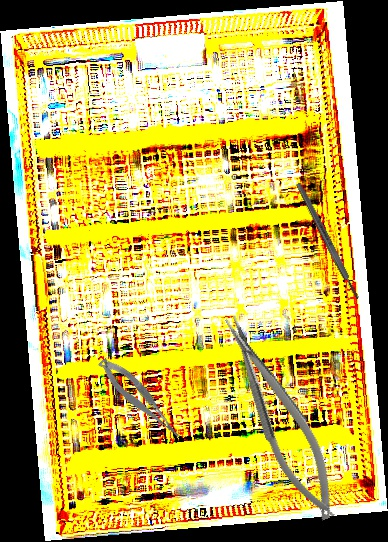Micro Scissor: (95, 350, 185, 449)
Needle Holder: (215, 305, 348, 529)
Scalpel Handle: (294, 181, 362, 301)
